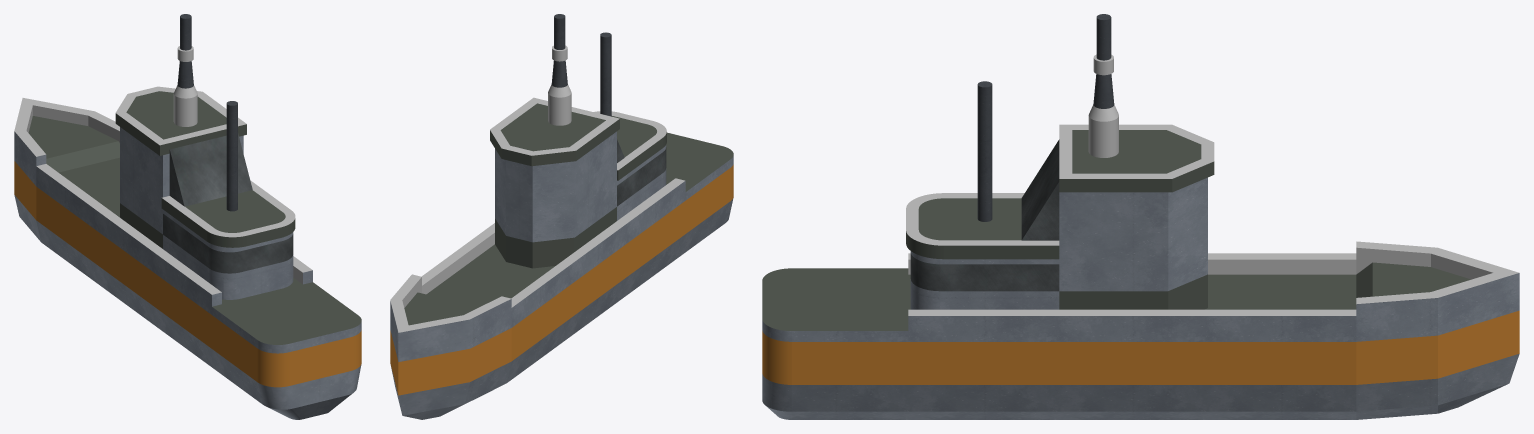
File: Ship.glb
3 renders of one model, left to right at view 1: azimuth 30°, elevation 25°; view 2: azimuth 150°, elevation 25°; view 3: azimuth 270°, elevation 25°, orthographic. The views are drawn at different scales.
Parts seen in each view (by area): view 1: hull_back, hull, hut, rail_frontDeck, hut_roof, hut_hexagonRoof, rail, hut_hexagon, blockTriangle, mast_bottomDetailed, hull_front, mast_middle; view 2: hull, hut_hexagon, hull_front, hut_hexagonRoof, rail_frontDeck, hull_back, rail, hut_roof, hut, mast_bottomDetailed, mast_middle; view 3: hull, hull_back, hut_hexagon, hull_front, rail, rail_frontDeck, hut_hexagonRoof, hut_roof, hut, mast_bottomDetailed, blockTriangle, mast_middle.
Part boxes in pixels (x1,y1,x2,y2): hull_back: [211, 282, 361, 419]; hull: [36, 157, 301, 369]; hut: [163, 209, 293, 299]; rail_frontDeck: [14, 98, 119, 177]; hut_roof: [161, 180, 295, 247]; hut_hexagonRoof: [115, 86, 246, 155]; rail: [36, 164, 312, 306]; hut_hexagon: [120, 127, 243, 248]; blockTriangle: [169, 133, 252, 206]; mast_bottomDetailed: [173, 14, 197, 126]; hull_front: [14, 152, 40, 241]; mast_middle: [226, 101, 237, 211]; hull: [426, 193, 684, 382]; hut_hexagon: [495, 131, 616, 268]; hull_front: [390, 320, 511, 419]; hut_hexagonRoof: [490, 97, 619, 166]; rail_frontDeck: [390, 274, 511, 353]; hull_back: [666, 132, 733, 256]; rail: [422, 178, 685, 319]; hut_roof: [593, 111, 666, 180]; hut: [617, 145, 666, 220]; mast_bottomDetailed: [548, 14, 571, 125]; mast_middle: [600, 32, 611, 116]; hull: [910, 274, 1356, 419]; hull_back: [762, 268, 910, 419]; hut_hexagon: [1059, 177, 1207, 309]; hull_front: [1356, 300, 1519, 419]; rail: [908, 253, 1356, 330]; rail_frontDeck: [1356, 241, 1519, 330]; hut_hexagonRoof: [1059, 124, 1214, 192]; hut_roof: [906, 193, 1059, 259]; hut: [910, 251, 1059, 309]; mast_bottomDetailed: [1088, 14, 1118, 157]; blockTriangle: [1021, 139, 1059, 240]; mast_middle: [977, 81, 992, 221].
Bounding box in the file's own units: 1 × 2.9 × 5.1.
26 materials, 11 textured.
